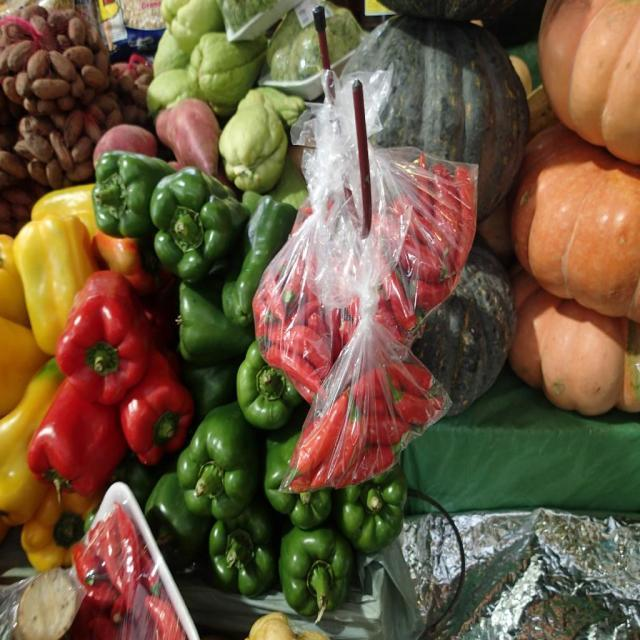Bell pepper: (0, 148, 409, 623)
